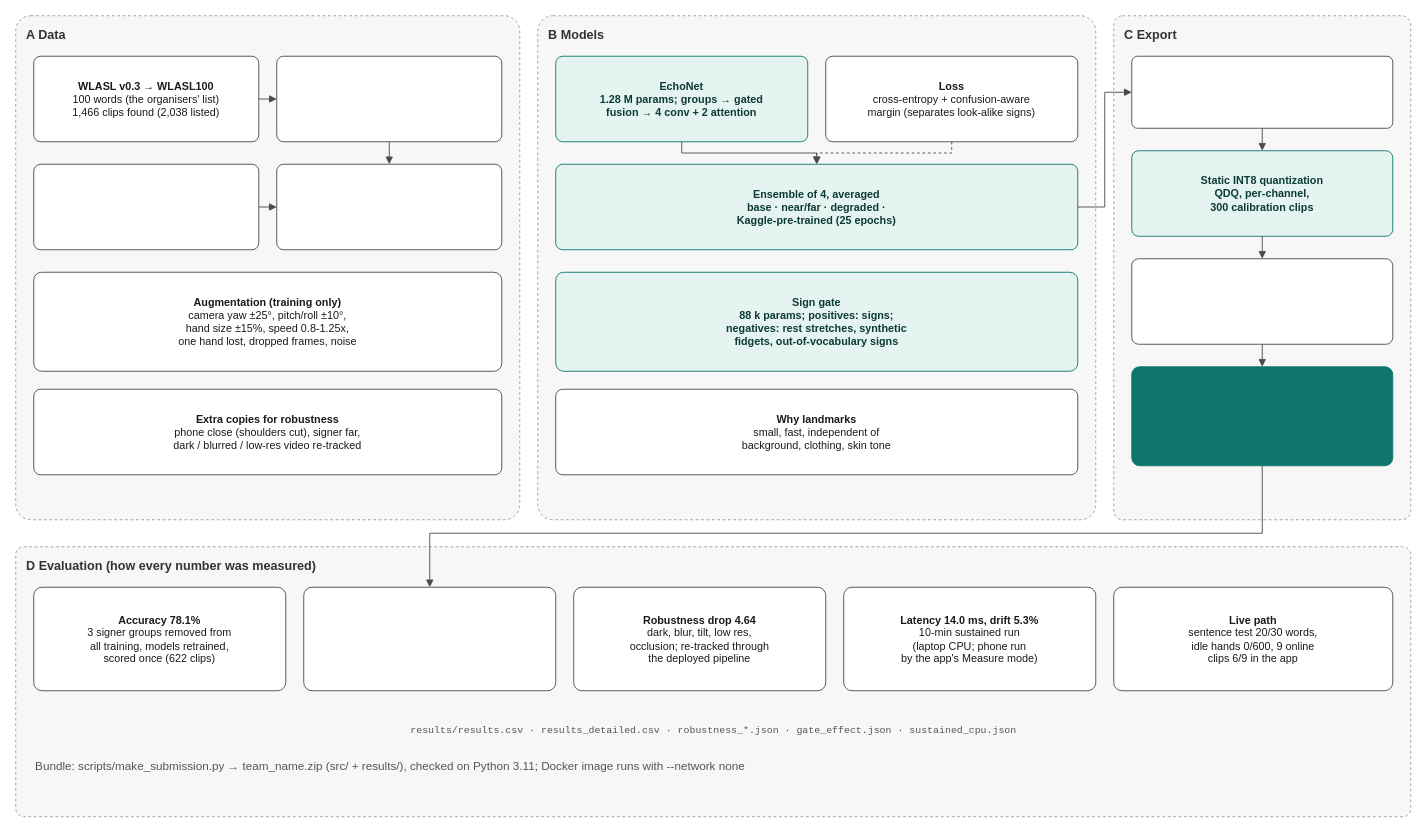
This 1427x833 diagram has some shape labels left out. Here are the shapes that lost their labels. From the top down, the centre of each, then its label:
[389,98]: Split by signer train 1,044 / val 221 / test 201 val signers never in train
[1262,91]: PyTorch → ONNX FP32 (export_onnx.py)
[146,206]: Kaggle ASL Signs 94,477 phone clips, 250 signs, 21 signers (pre-training)
[389,206]: MediaPipe Holistic same landmark model as the app → T x 88 x 3 per clip
[1262,301]: Check INT8 vs FP32 accuracy and latency on held-out clips
[1262,416]: models/ model_int8.onnx 6.23 MB gate_int8.onnx 0.23 MB (limit 20 MB)
[429,638]: Official test 81.6% 201 clips through main.py predict() → predictions.jsonl
